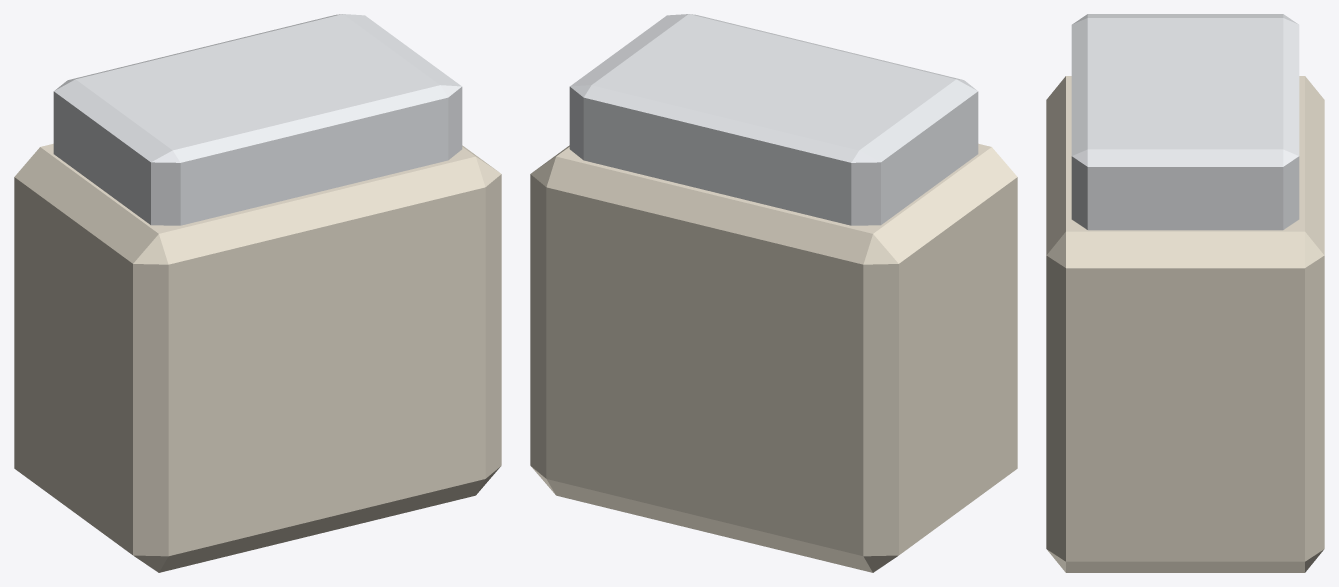
File: b17_soft_structured_baby_carrier.glb
The picture shows the model from 3 angles, left to right: view 1: azimuth 30°, elevation 25°; view 2: azimuth 150°, elevation 25°; view 3: azimuth 270°, elevation 25°; orthographic projection.
Parts seen in each view (by area): view 1: b17_soft_structured_baby_carrier; view 2: b17_soft_structured_baby_carrier; view 3: b17_soft_structured_baby_carrier.
Part boxes in pixels (box(x1,y1,x2,y2)): b17_soft_structured_baby_carrier: box(14, 14, 501, 572); b17_soft_structured_baby_carrier: box(530, 14, 1017, 572); b17_soft_structured_baby_carrier: box(1046, 14, 1324, 572).
Size of the model in its own units: 0.47 by 0.498 by 0.305.
